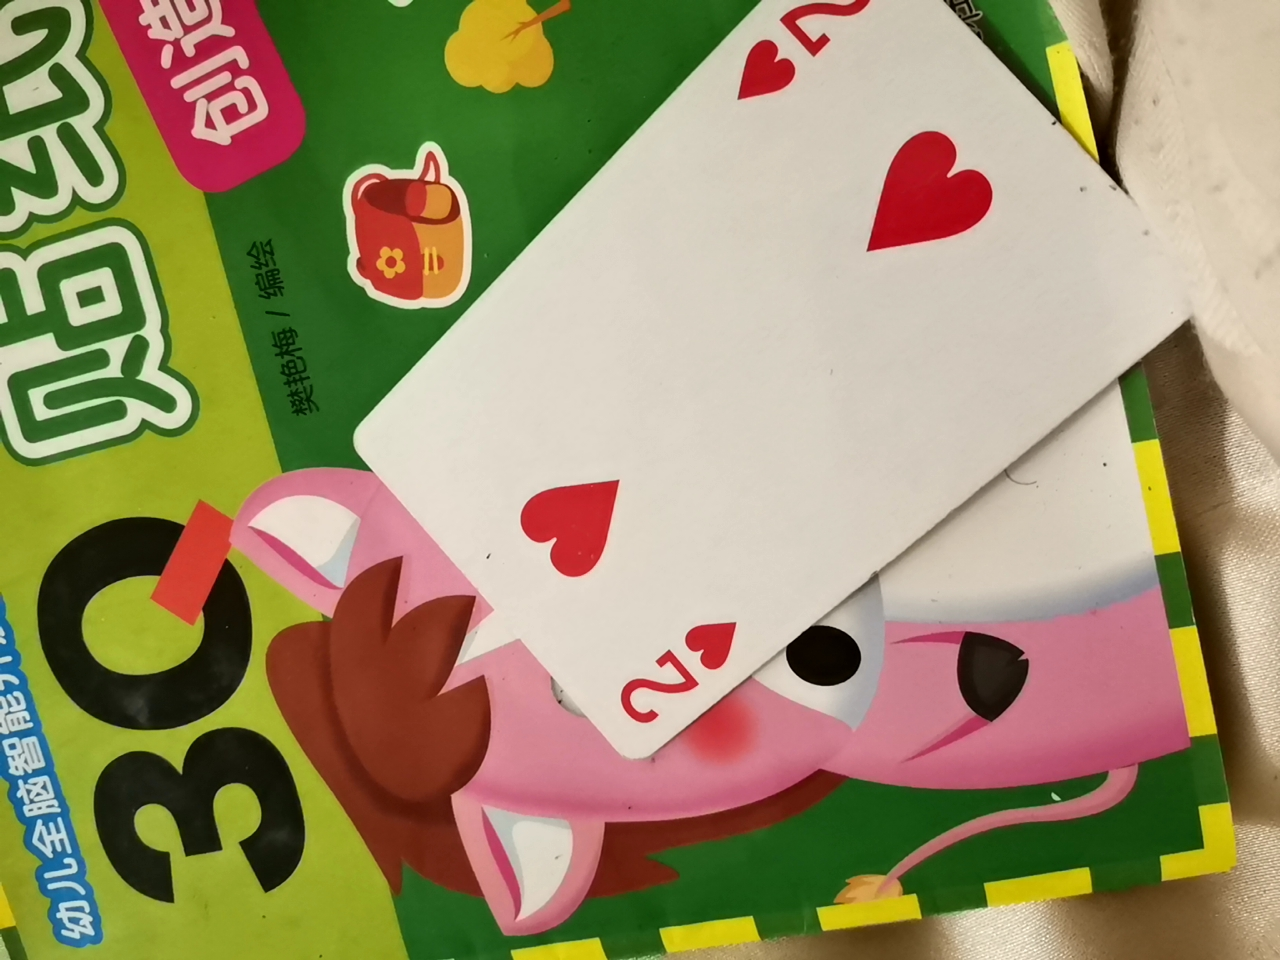hx 2: (290, 0, 1190, 761)
